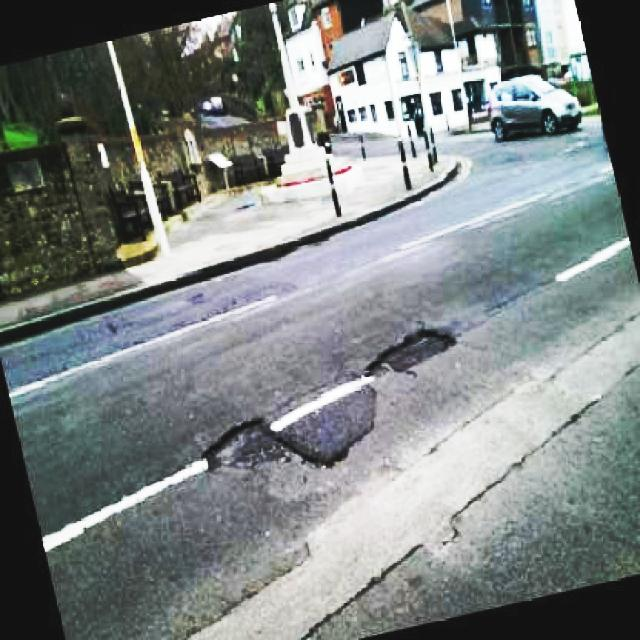pothole: (202, 414, 324, 477), (364, 328, 458, 383)
